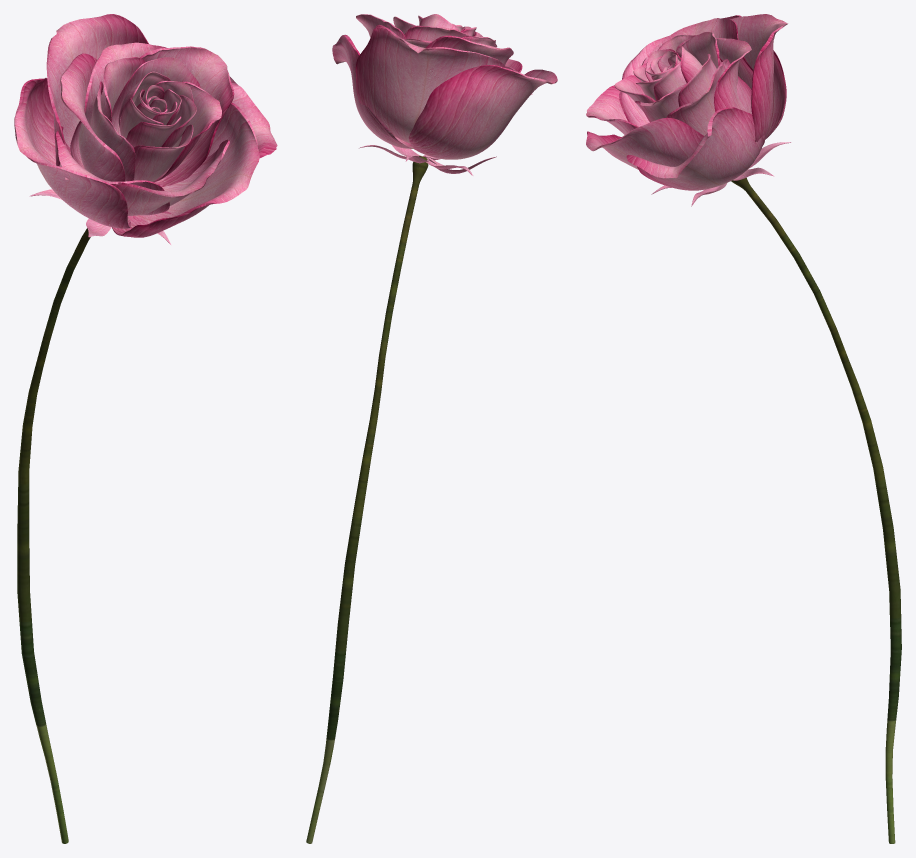
Rendered from rose1curv1.glb.
The picture shows the model from 3 angles, left to right: view 1: azimuth 30°, elevation 25°; view 2: azimuth 150°, elevation 25°; view 3: azimuth 270°, elevation 25°; orthographic projection. The views are drawn at different scales.
Visible parts, largest first — view 1: base, Subdivision_Surface.040, Subdivision_Surface.039, Subdivision_Surface.041, Subdivision_Surface.045, Subdivision_Surface.043, Subdivision_Surface.046, Subdivision_Surface.044, Subdivision_Surface.050, Subdivision_Surface.049, Subdivision_Surface.048, Subdivision_Surface.051 (+7 smaller); view 2: Subdivision_Surface.040, Subdivision_Surface.041, base, Subdivision_Surface.002, Subdivision_Surface.043, Subdivision_Surface.047, Subdivision_Surface.045; view 3: base, Subdivision_Surface.002, Subdivision_Surface.039, Subdivision_Surface.041, Subdivision_Surface.045, Subdivision_Surface.044, Subdivision_Surface.040, Subdivision_Surface.043, Subdivision_Surface.046, Subdivision_Surface.048, Subdivision_Surface.047, Subdivision_Surface.049 (+1 smaller).
Part boxes in pixels (<box>): base: <box>17,228,90,843</box>; Subdivision_Surface.040: <box>14,78,130,228</box>; Subdivision_Surface.039: <box>112,102,259,237</box>; Subdivision_Surface.041: <box>46,14,148,166</box>; Subdivision_Surface.045: <box>139,46,234,186</box>; Subdivision_Surface.043: <box>60,53,125,181</box>; Subdivision_Surface.046: <box>111,139,229,215</box>; Subdivision_Surface.044: <box>70,42,167,168</box>; Subdivision_Surface.050: <box>134,124,193,181</box>; Subdivision_Surface.049: <box>153,81,221,182</box>; Subdivision_Surface.048: <box>111,57,200,135</box>; Subdivision_Surface.051: <box>90,81,135,181</box>; Subdivision_Surface.040: <box>408,65,557,159</box>; Subdivision_Surface.041: <box>355,26,504,143</box>; base: <box>306,156,428,843</box>; Subdivision_Surface.002: <box>332,34,413,148</box>; Subdivision_Surface.043: <box>425,35,513,66</box>; Subdivision_Surface.047: <box>404,25,468,41</box>; Subdivision_Surface.045: <box>356,14,405,39</box>; base: <box>731,177,901,843</box>; Subdivision_Surface.002: <box>626,107,765,190</box>; Subdivision_Surface.039: <box>586,117,703,169</box>; Subdivision_Surface.041: <box>731,14,787,141</box>; Subdivision_Surface.045: <box>666,59,752,135</box>; Subdivision_Surface.044: <box>714,38,751,111</box>; Subdivision_Surface.040: <box>622,15,786,139</box>; Subdivision_Surface.043: <box>641,18,753,89</box>; Subdivision_Surface.046: <box>586,85,638,134</box>; Subdivision_Surface.048: <box>678,54,716,106</box>; Subdivision_Surface.047: <box>676,32,721,68</box>; Subdivision_Surface.049: <box>635,84,685,122</box>.
Size of the model in its own units: 32.45 by 110 by 39.21.
2 materials, 2 textured.
